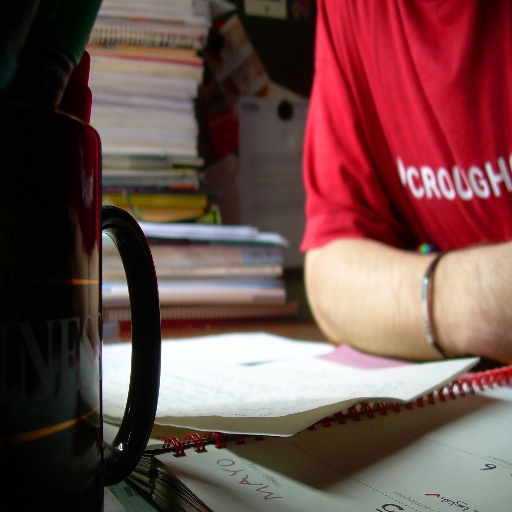hand: (460, 236, 511, 365)
